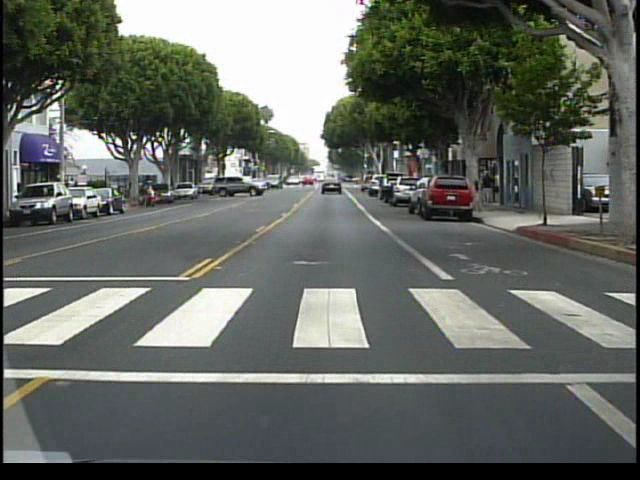person: (475, 171, 496, 211), (141, 176, 158, 209)
